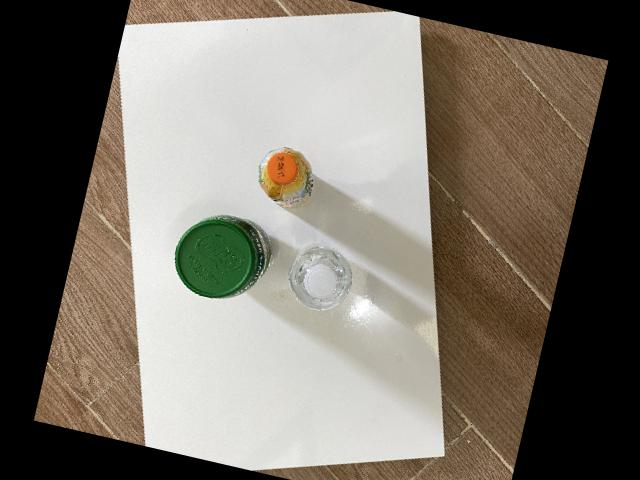aquafina: (287, 245, 350, 310)
milo: (173, 214, 270, 298)
teppy_orange_juice: (256, 146, 311, 208)
